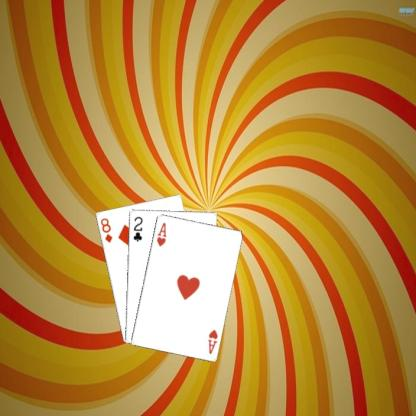2C: (130, 214, 144, 242)
8D: (98, 215, 113, 244)
AH: (154, 219, 168, 247), (205, 327, 219, 355)
